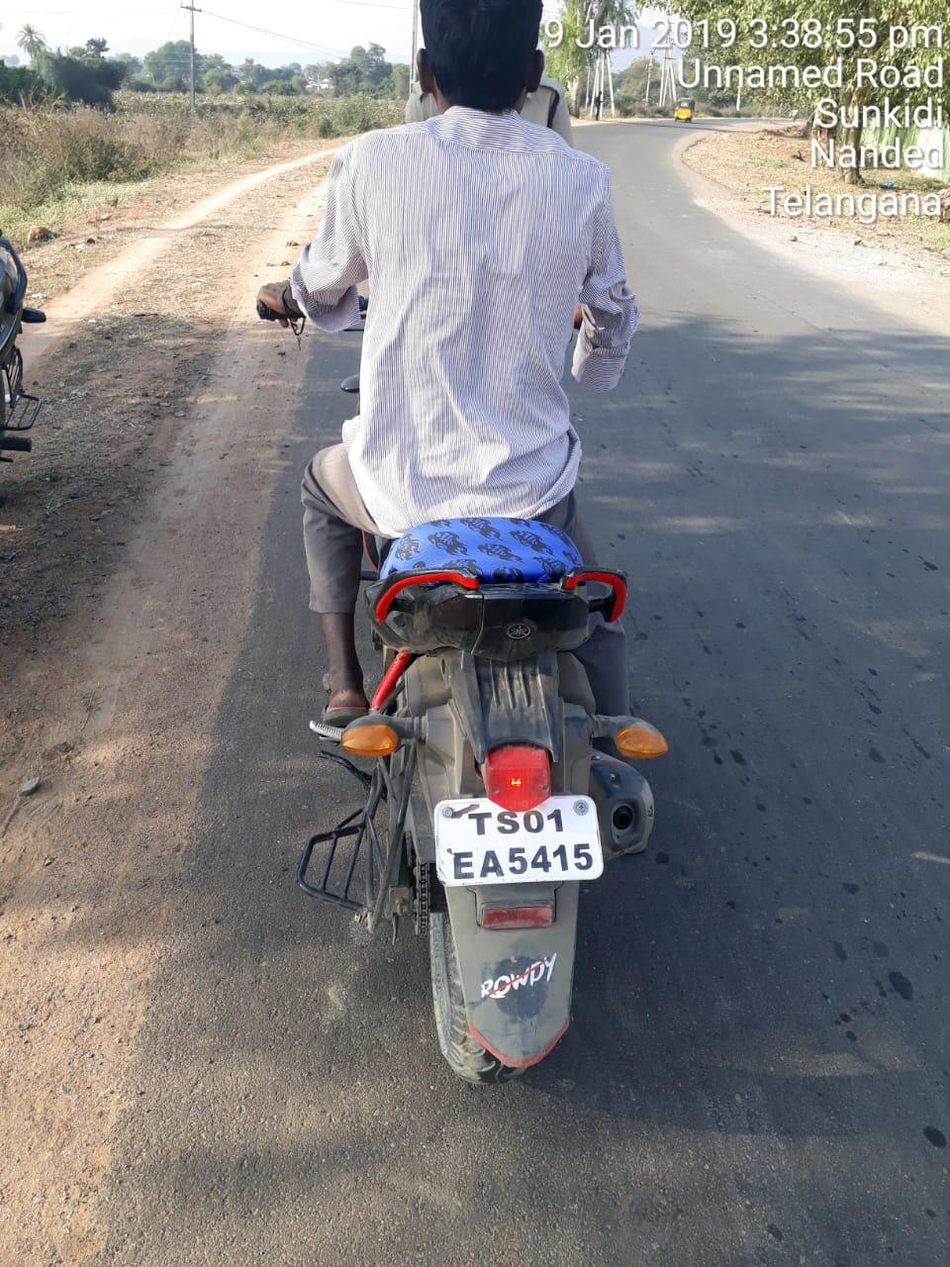plate: (437, 790, 617, 897)
